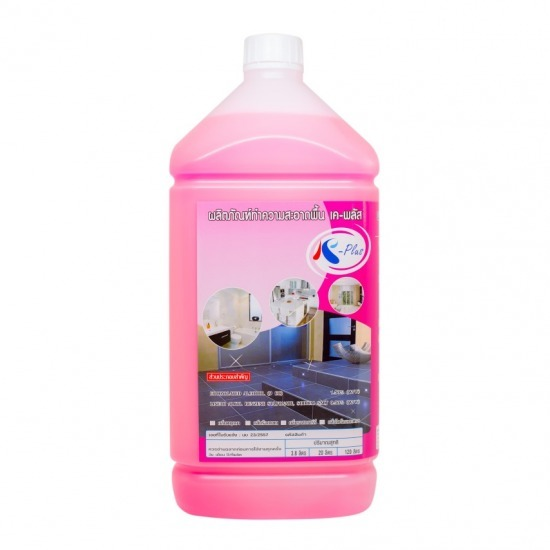Cleaning_solution: (162, 29, 391, 531)
